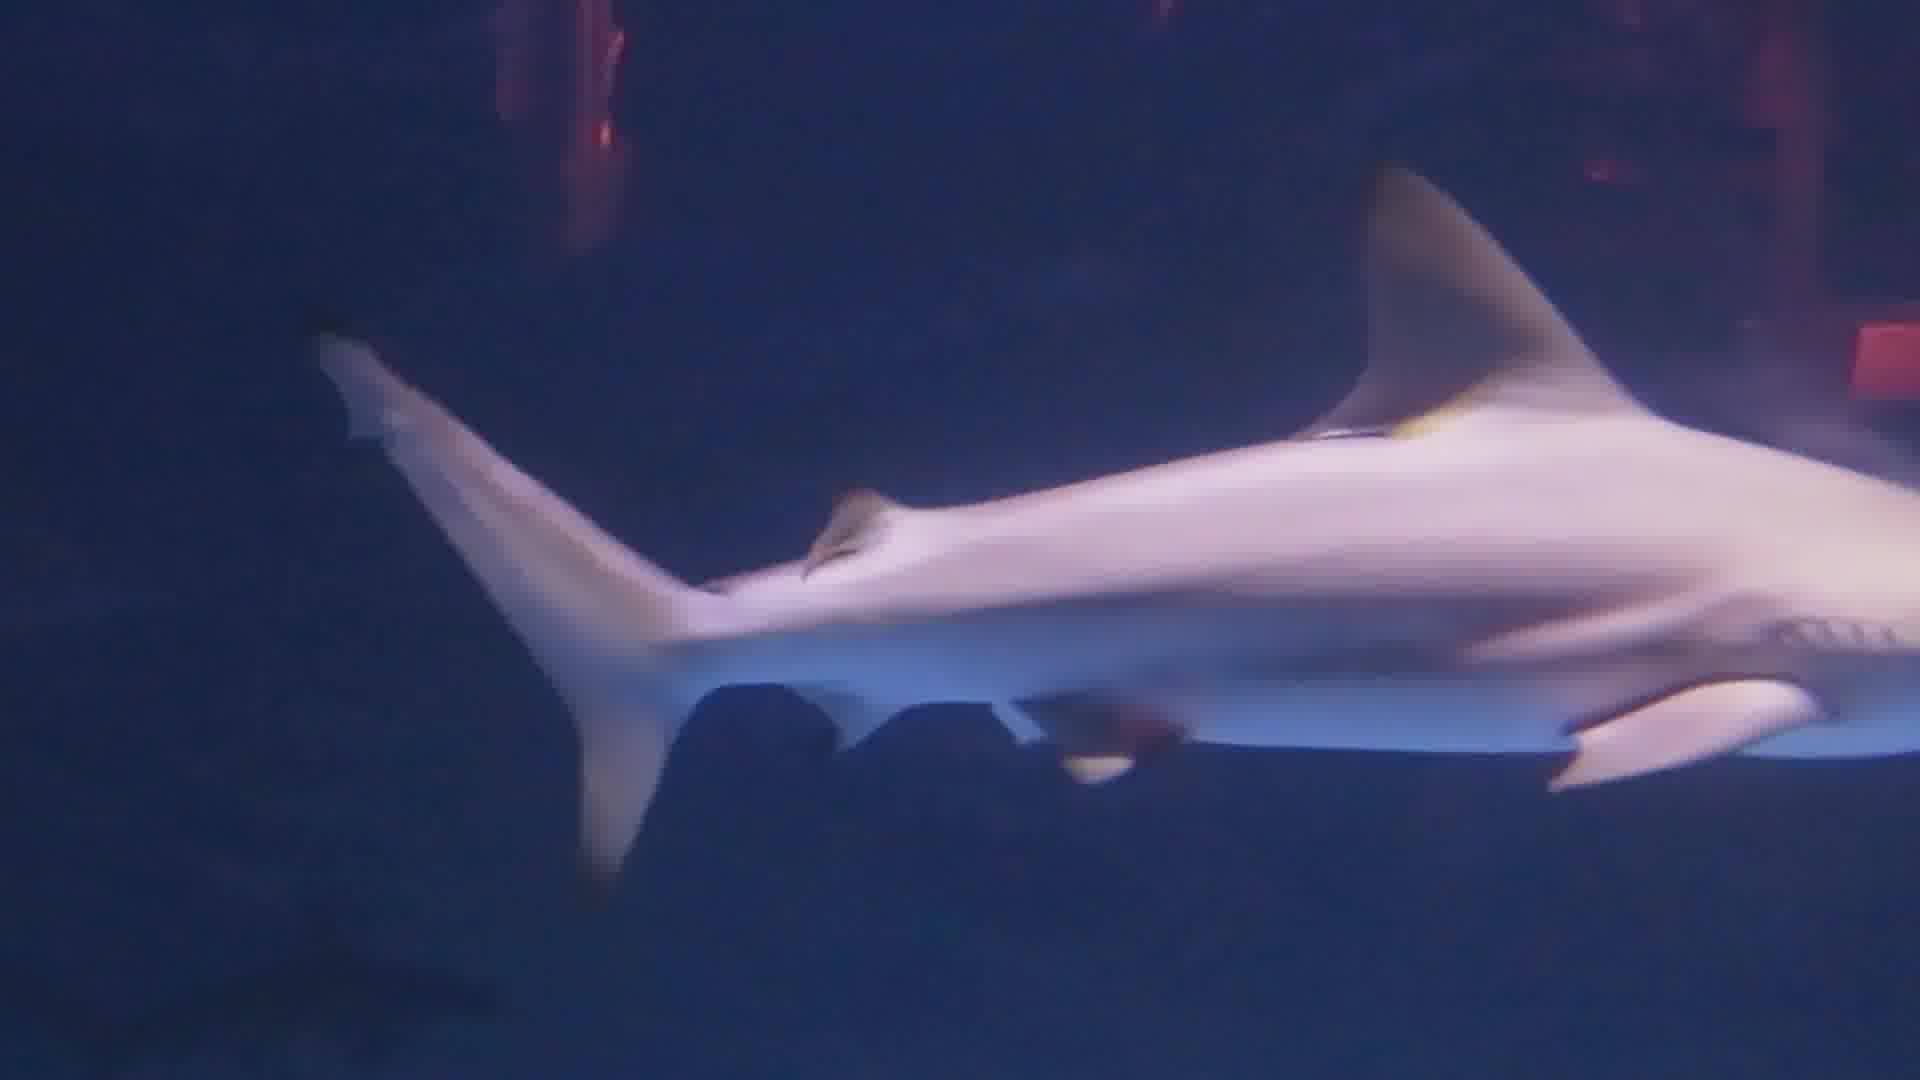Carcharhinus leucas: (303, 171, 1920, 901)
